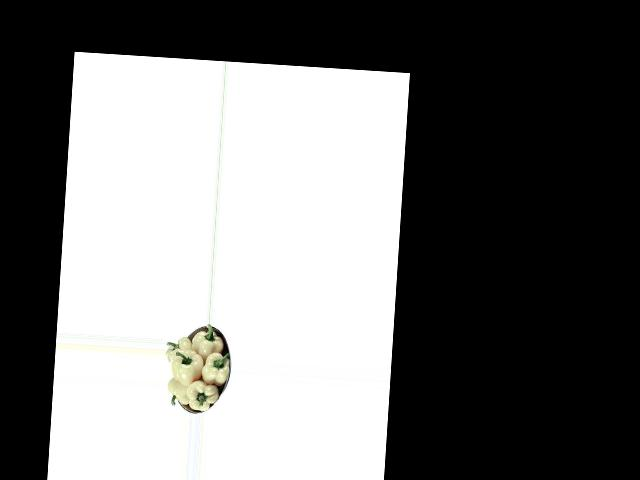bell_pepper: (165, 333, 195, 363)
